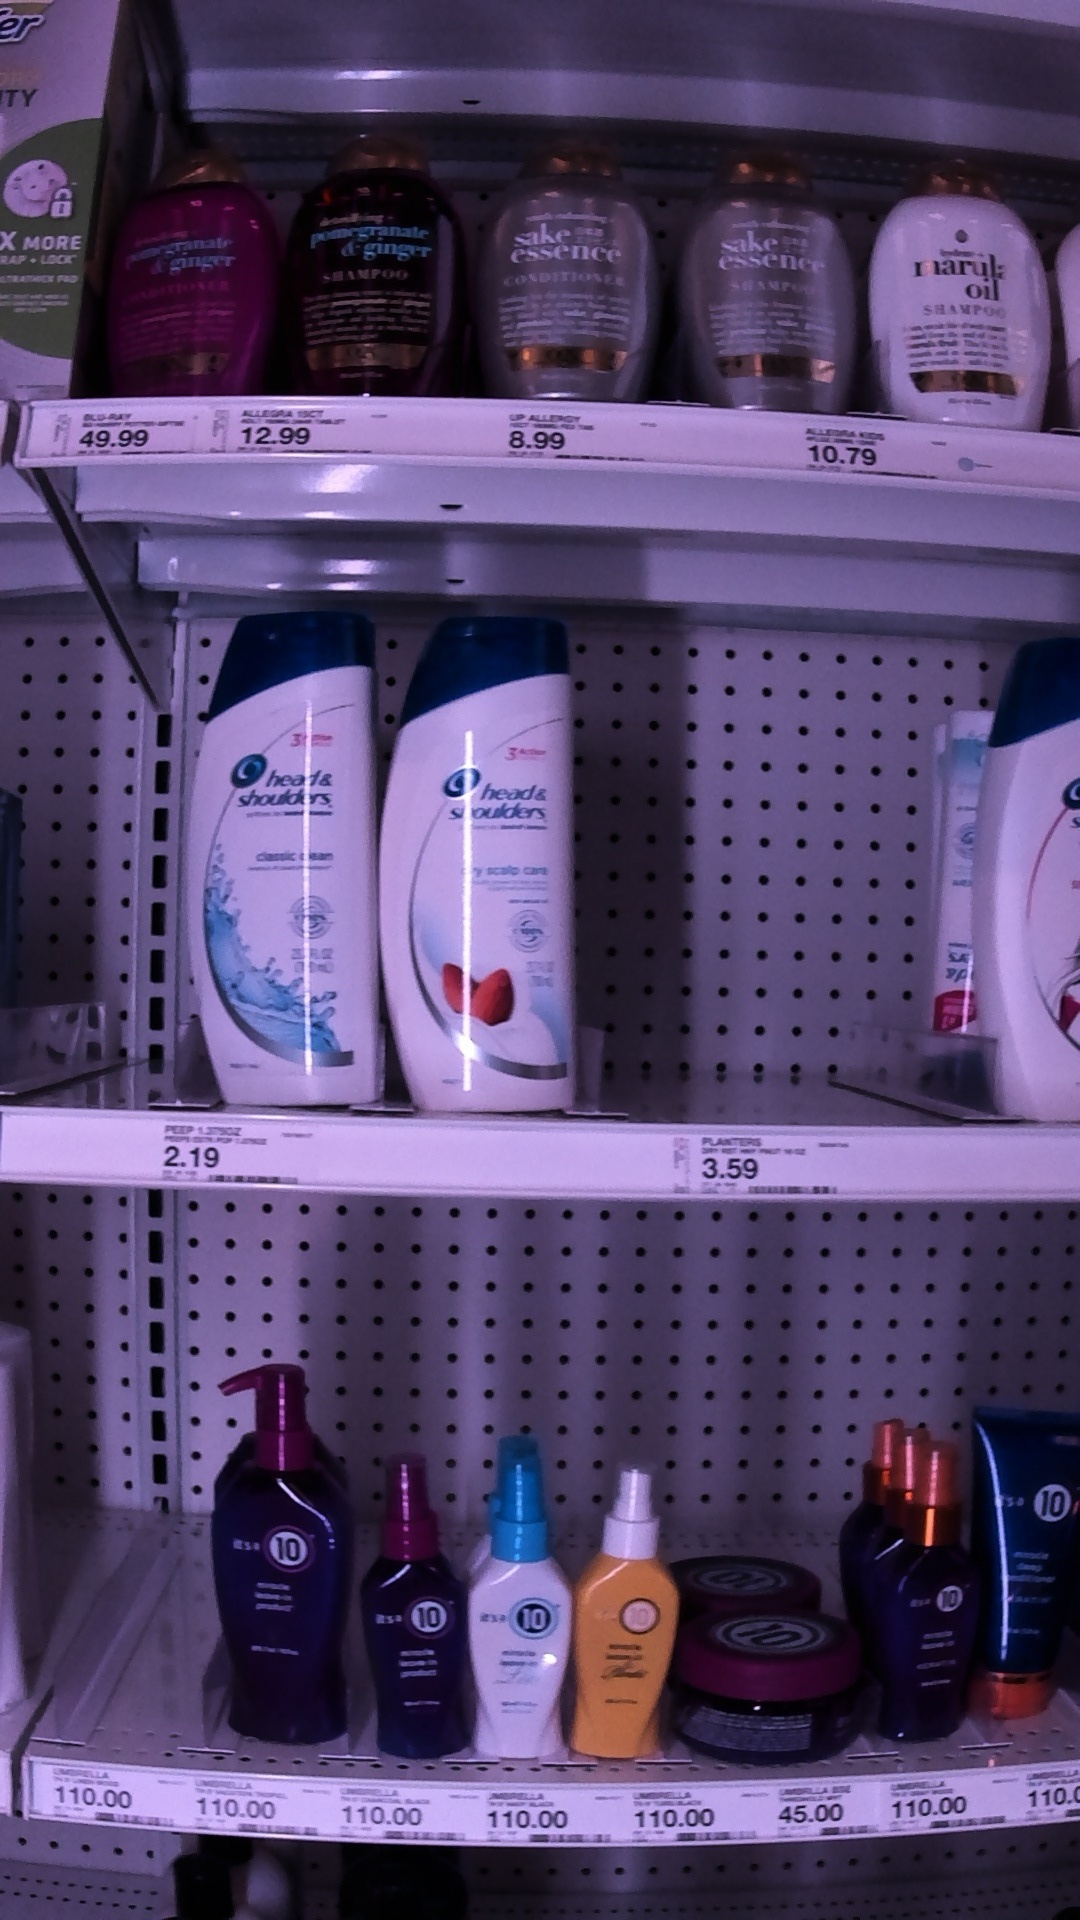ptag: (152, 1116, 313, 1207), (675, 1129, 855, 1203), (498, 396, 640, 473), (802, 417, 942, 491), (33, 1755, 164, 1833), (483, 1784, 609, 1862), (189, 1774, 306, 1846), (632, 1789, 752, 1859), (334, 1784, 448, 1855), (771, 1778, 872, 1857), (75, 393, 186, 464), (893, 1778, 1004, 1846), (240, 397, 349, 465)
